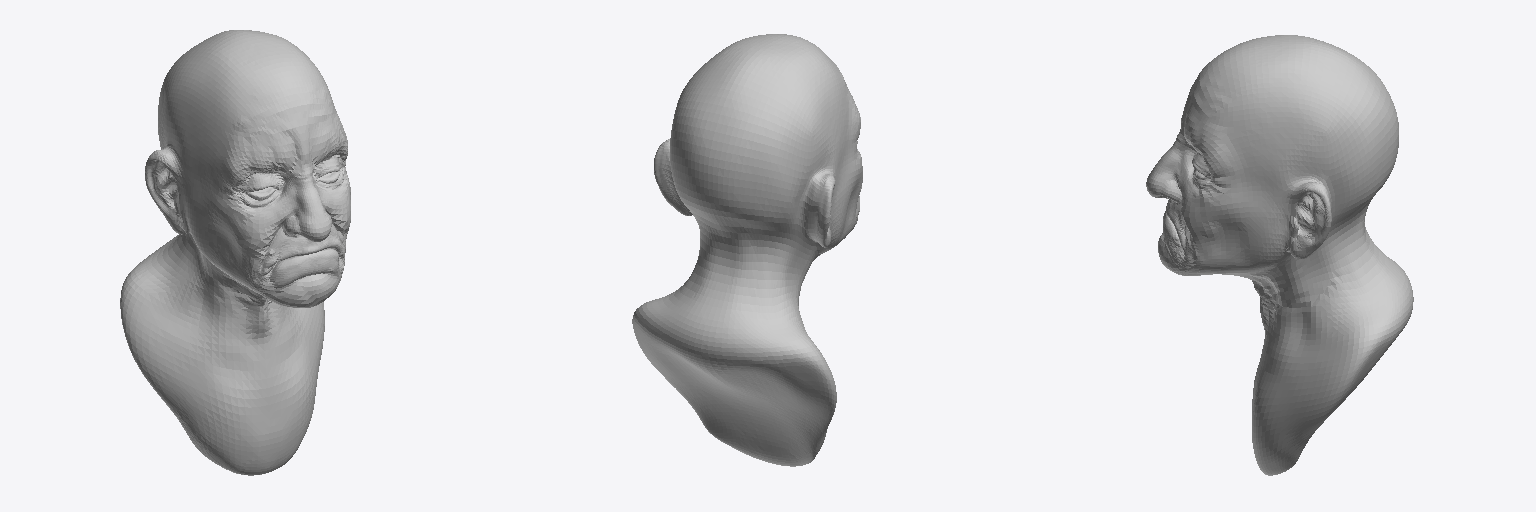
Rendered from head.obj.
3 renders of one model, left to right at view 1: azimuth 30°, elevation 25°; view 2: azimuth 150°, elevation 25°; view 3: azimuth 270°, elevation 25°, orthographic.
Visible parts, largest first — view 1: Group36484; view 2: Group36484; view 3: Group36484.
Boxes of the visible parts, <box> form: Group36484: <box>120,30,350,475</box>; Group36484: <box>632,34,862,466</box>; Group36484: <box>1146,35,1413,475</box>.
Size of the model in its own units: 1.2 by 2.51 by 1.43.